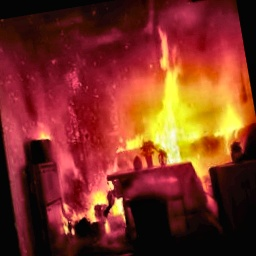fire: (80, 7, 256, 191)
